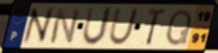N: (21, 5, 55, 47), (48, 8, 81, 45)
Q: (165, 7, 194, 47)
T: (144, 7, 168, 47)
U: (80, 5, 115, 48), (107, 7, 141, 47)
